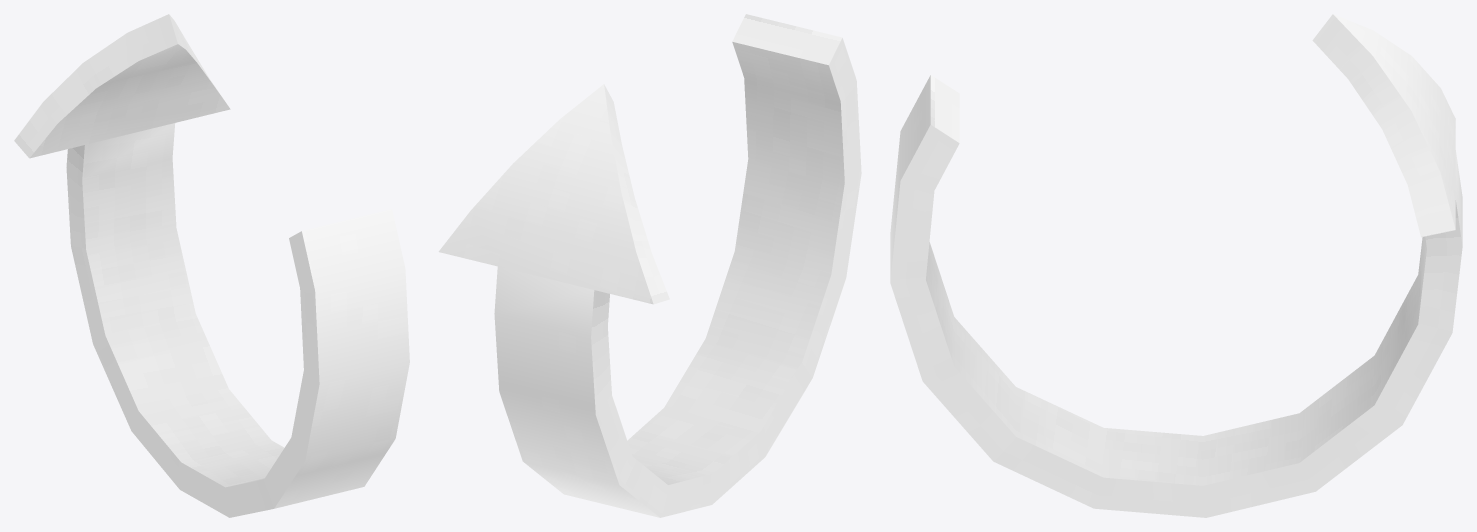
File: ArrowCircle.glb
The picture shows the model from 3 angles, left to right: view 1: azimuth 30°, elevation 25°; view 2: azimuth 150°, elevation 25°; view 3: azimuth 270°, elevation 25°; orthographic projection. The views are drawn at different scales.
Visible parts, largest first — view 1: ArrowCircle; view 2: ArrowCircle; view 3: ArrowCircle.
Part boxes in pixels (x1=…): ArrowCircle: x1=14, y1=14, x2=409, y2=517; ArrowCircle: x1=438, y1=14, x2=861, y2=517; ArrowCircle: x1=890, y1=14, x2=1462, y2=517.
Bounding box in the file's own units: 0.099 × 0.1992 × 0.2157.
Materials: 1 (1 with a texture image).
